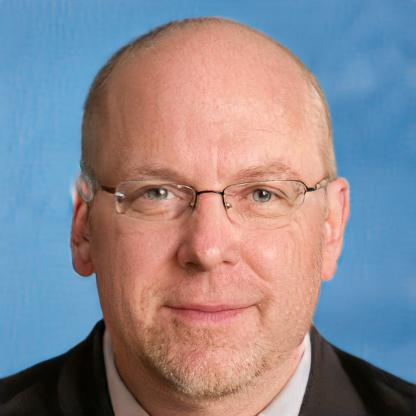glasses: (104, 171, 319, 229)
